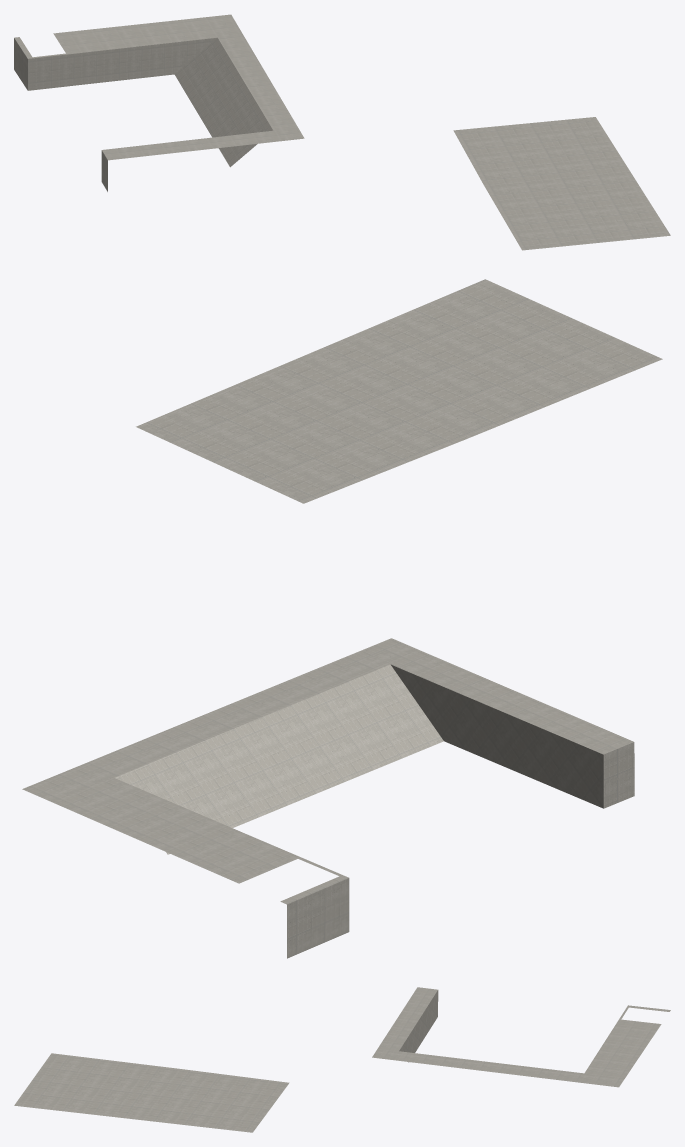
File: kd_stage_1364a3_4_20.glb
3 renders of one model, top to bottom at view 1: azimuth 30°, elevation 25°; view 2: azimuth 150°, elevation 25°; view 3: azimuth 270°, elevation 25°, orthographic. The views are drawn at different scales.
Visible parts, largest first — view 1: kd_stage_1364a3_4_20; view 2: kd_stage_1364a3_4_20; view 3: kd_stage_1364a3_4_20.
Boxes of the visible parts, x1,y1,x2,y2 form: kd_stage_1364a3_4_20: [14, 14, 670, 250]; kd_stage_1364a3_4_20: [22, 279, 662, 958]; kd_stage_1364a3_4_20: [14, 987, 670, 1132].
Size of the model in its own units: 224 by 28 by 384.
1 material, 1 textured.
